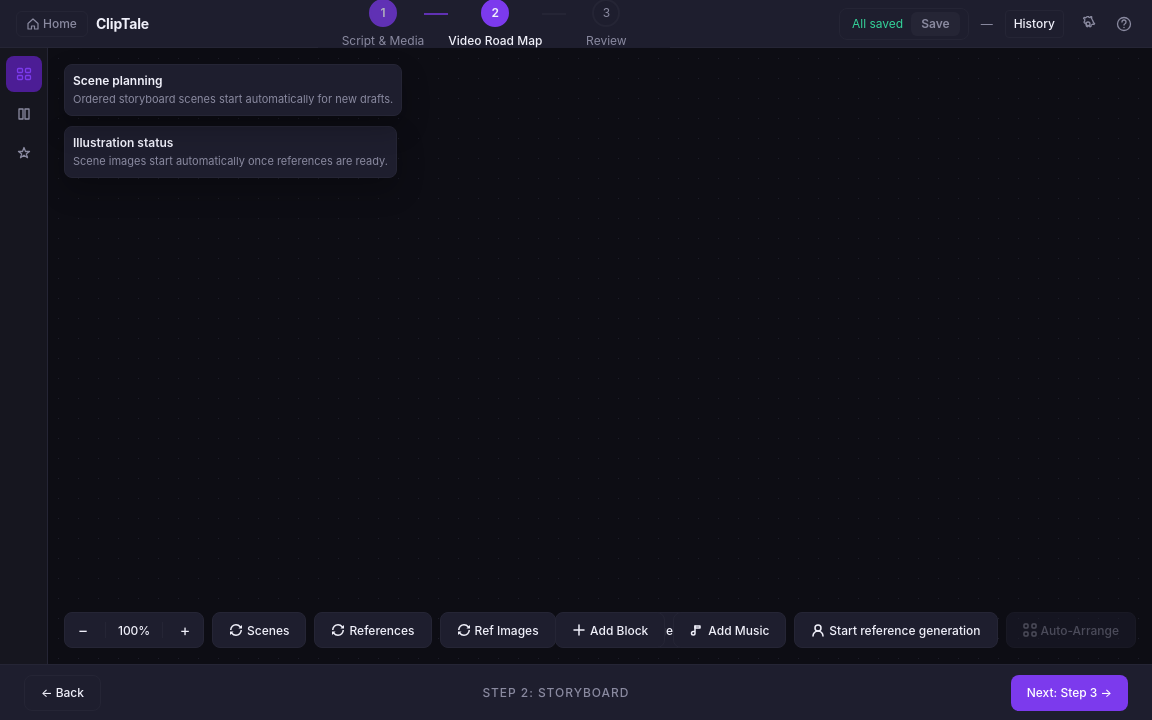
Test: StoryboardPage / save-on-add (ST-FIX-4) › opens the music modal and saves the created music block from the page Add Music action
This screenshot has width=1152, height=720.
Click the button with test id "add-music-block-button" at {"x": 730, "y": 630}, box [673,612,786,648]
Wait 1 ms
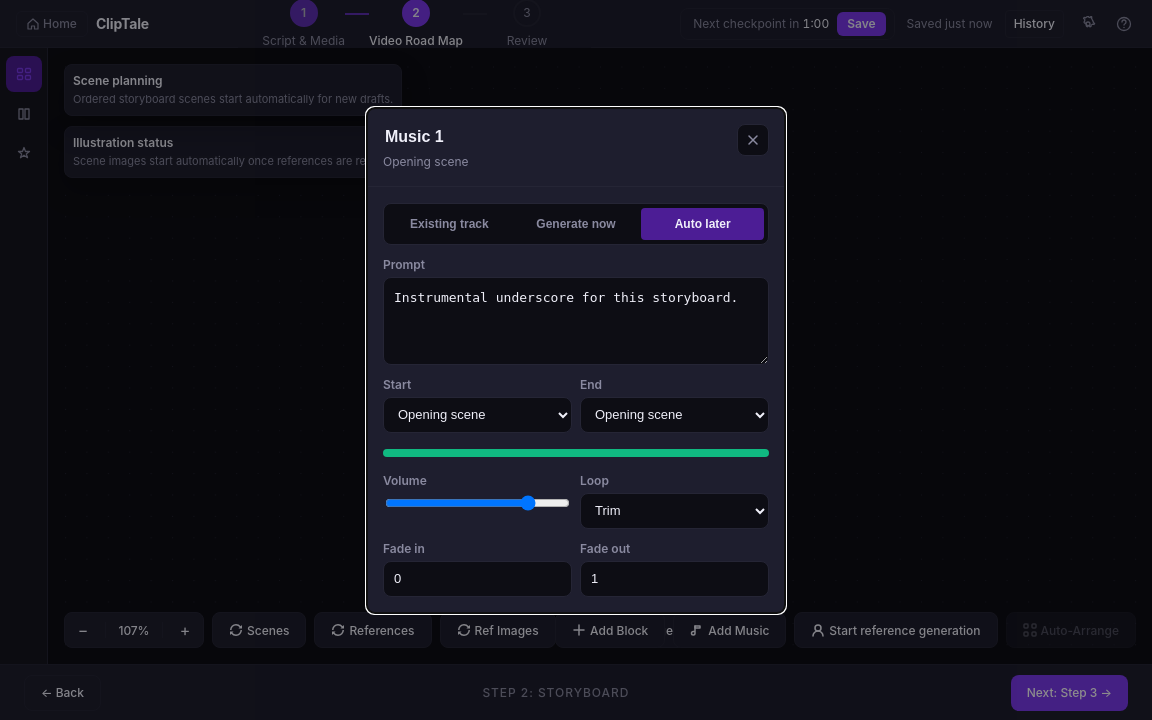
Expected: the dialog named "Music block inspector" is shown, [366,106,786,614]
